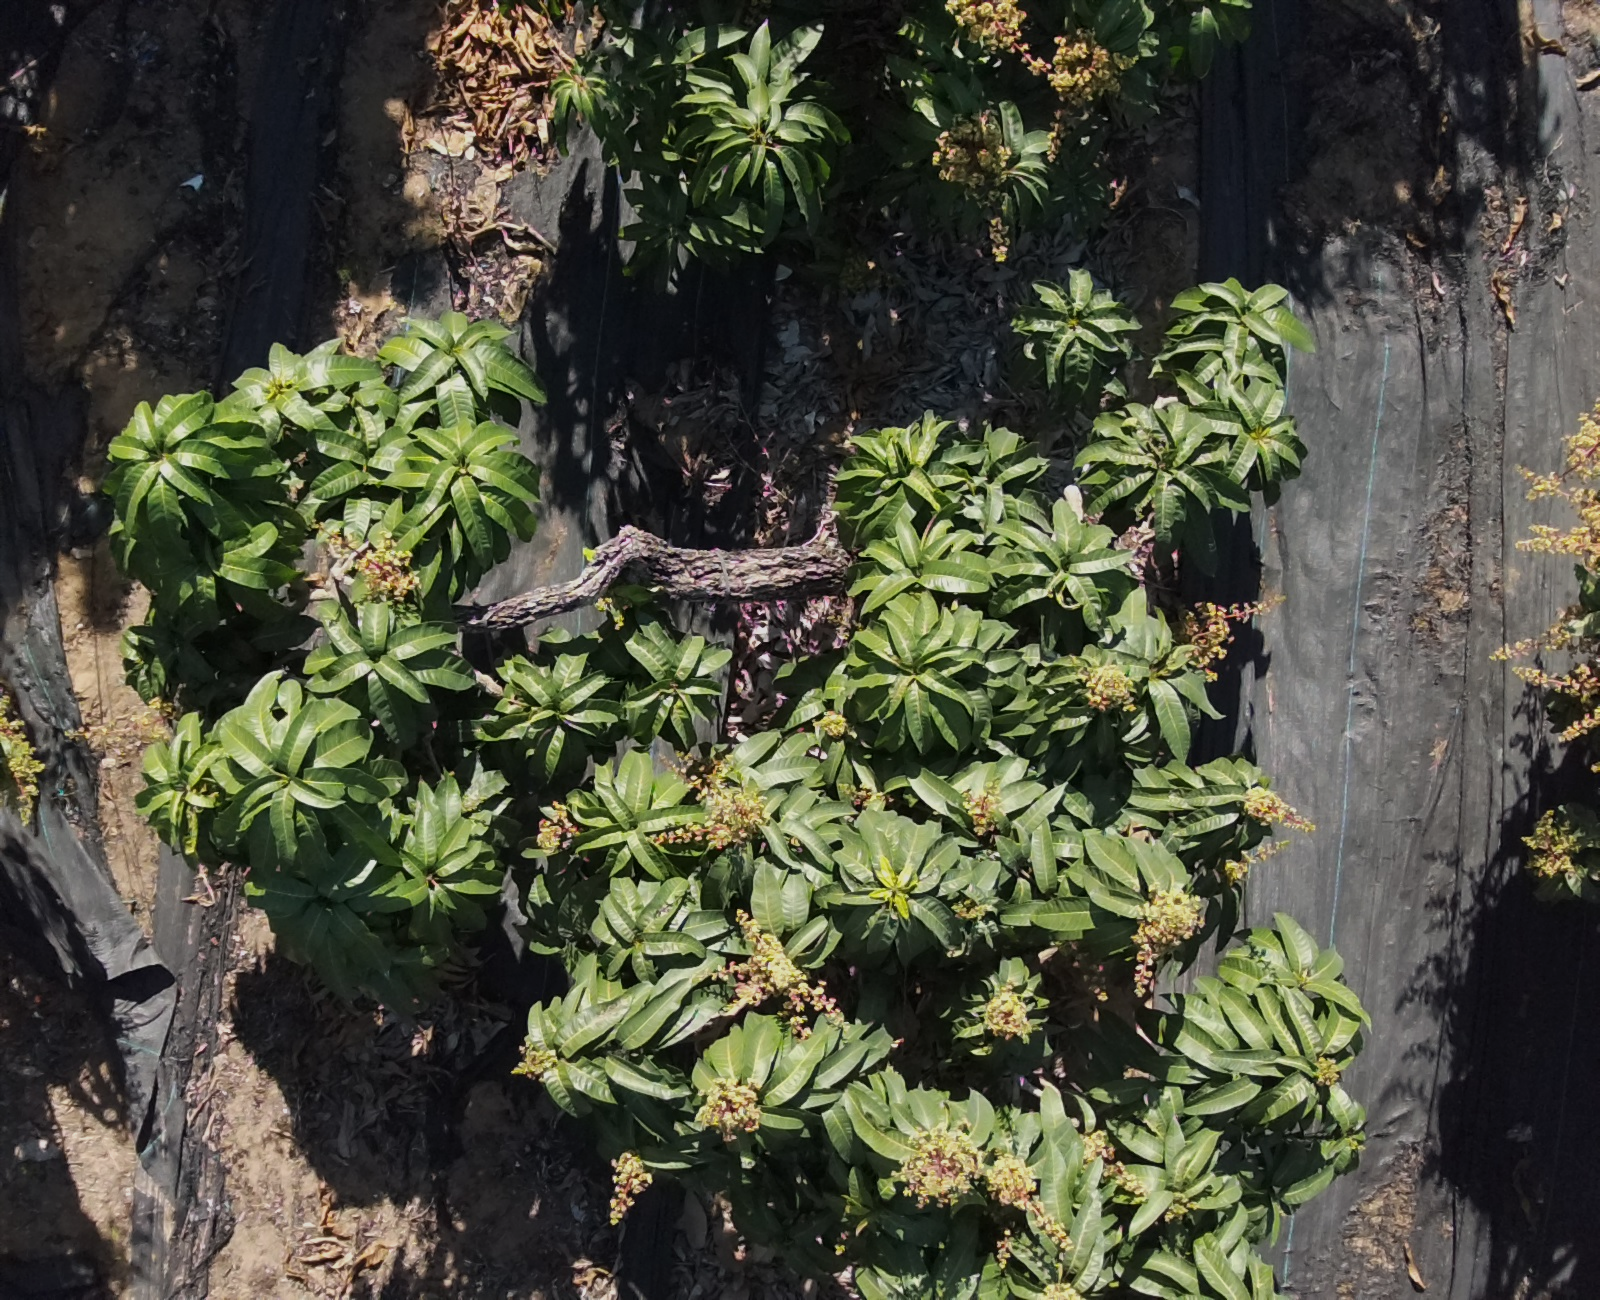flowers: (900, 1125, 1071, 1250), (946, 0, 1130, 109), (715, 910, 838, 1035), (1494, 606, 1599, 742), (1519, 401, 1599, 573), (651, 752, 768, 849), (318, 497, 419, 604), (1183, 596, 1283, 681), (1133, 889, 1205, 998), (931, 111, 1011, 206), (0, 688, 44, 824), (979, 958, 1044, 1041), (1522, 807, 1584, 886), (1083, 1130, 1148, 1203), (697, 1078, 760, 1141), (1242, 785, 1313, 832), (609, 1151, 651, 1224), (1222, 840, 1288, 883), (1116, 515, 1156, 580), (536, 803, 578, 856), (511, 1040, 557, 1081), (965, 788, 1004, 836), (951, 895, 992, 921), (988, 216, 1010, 263), (1083, 1130, 1113, 1162), (1041, 1281, 1083, 1299), (996, 1232, 1011, 1269)
